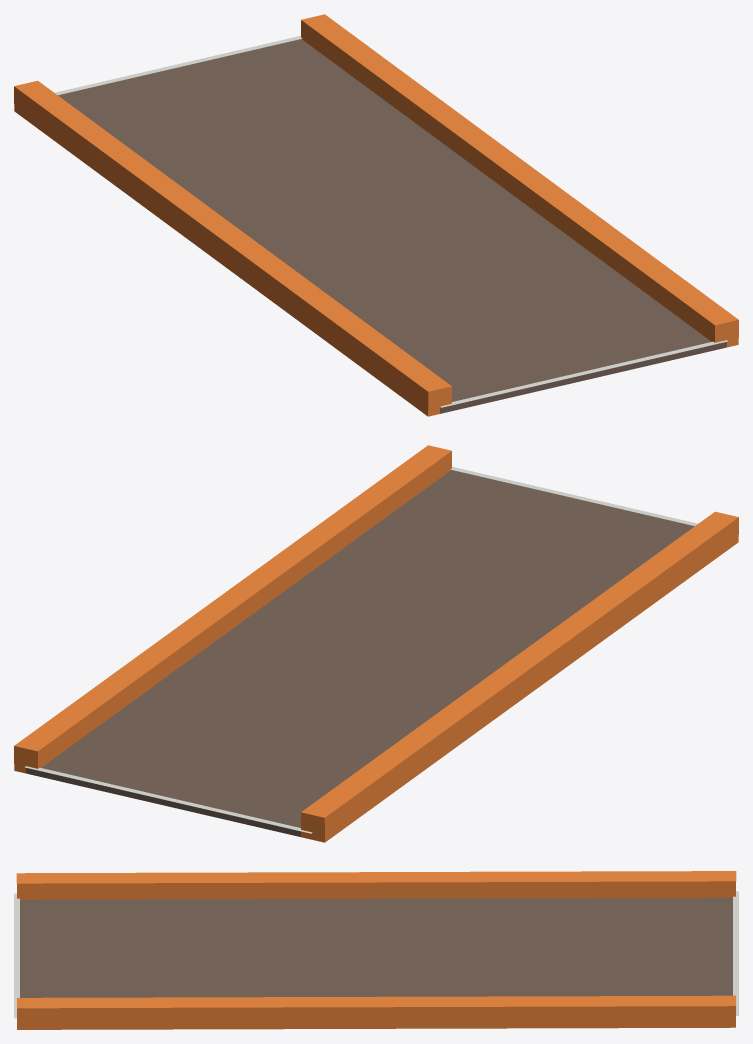
Rendered from SM_MP_Film_B_3_2.fbx.
3 views of the same model, one above another, from view 1: azimuth 30°, elevation 25°; view 2: azimuth 150°, elevation 25°; view 3: azimuth 270°, elevation 25° (orthographic). The views are drawn at different scales.
Visible parts, largest first — view 1: SM_MP_Film_B_3_2; view 2: SM_MP_Film_B_3_2; view 3: SM_MP_Film_B_3_2.
Boxes of the visible parts, x1,y1,x2,y2 form: SM_MP_Film_B_3_2: (14,14,738,416); SM_MP_Film_B_3_2: (14,445,738,842); SM_MP_Film_B_3_2: (14,871,738,1029).
Size of what is drawn, in the model's own units: 260 by 605 by 25.1.
